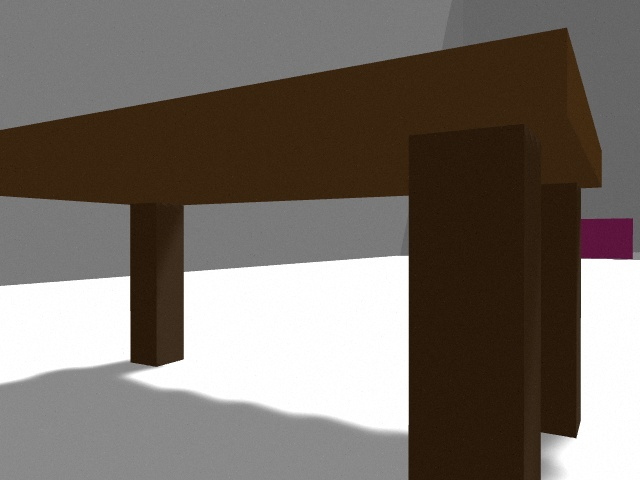red_drop_zone: (581, 218, 633, 259)
